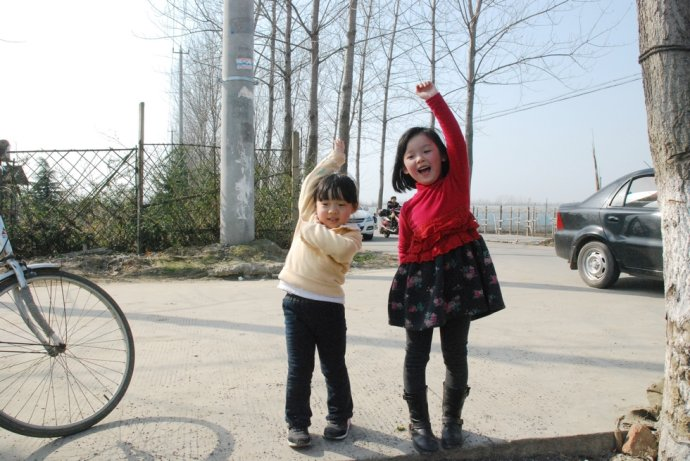handsup: (384, 79, 509, 456), (276, 126, 374, 450)
